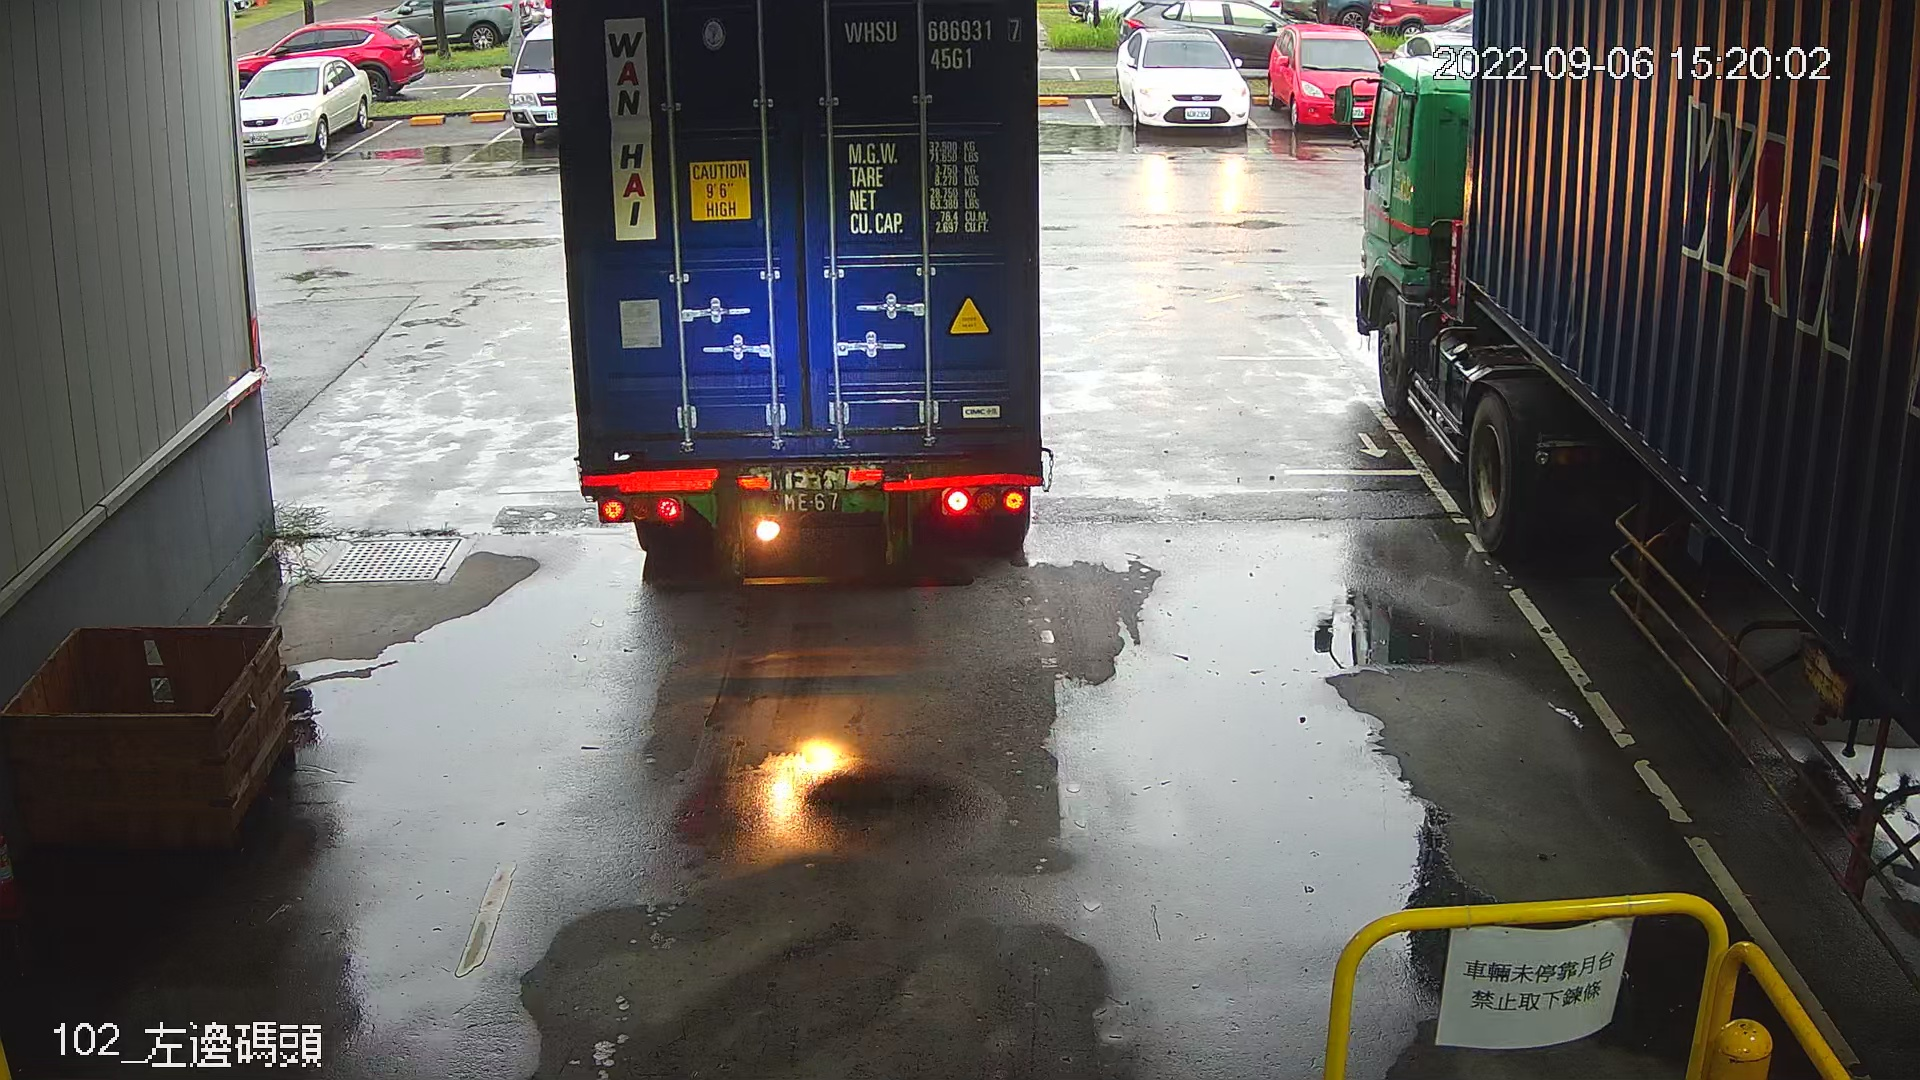container: (831, 8, 1029, 82)
